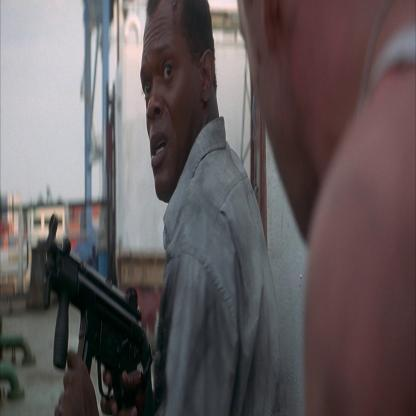gun: (43, 213, 160, 416)
